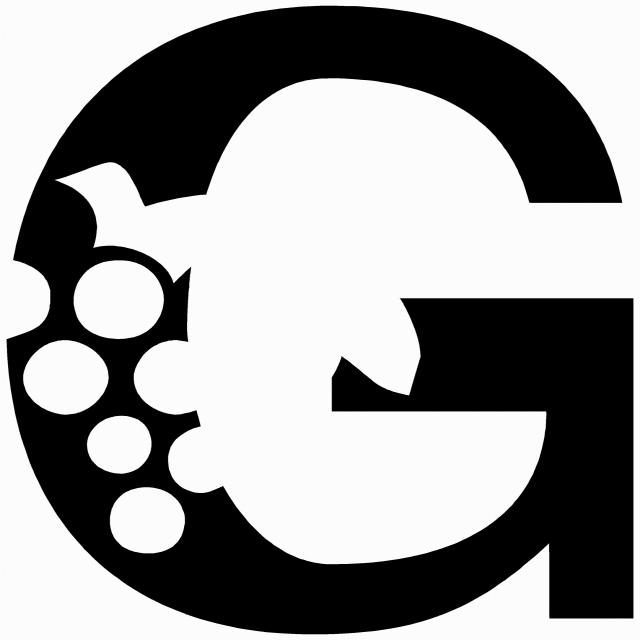G: (9, 3, 640, 639)
